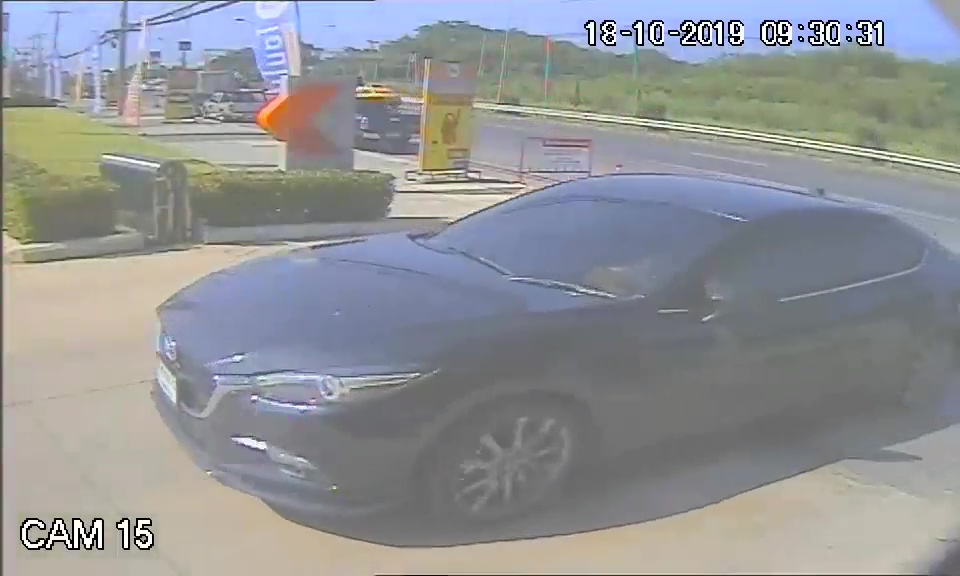sedan: (144, 168, 945, 525)
